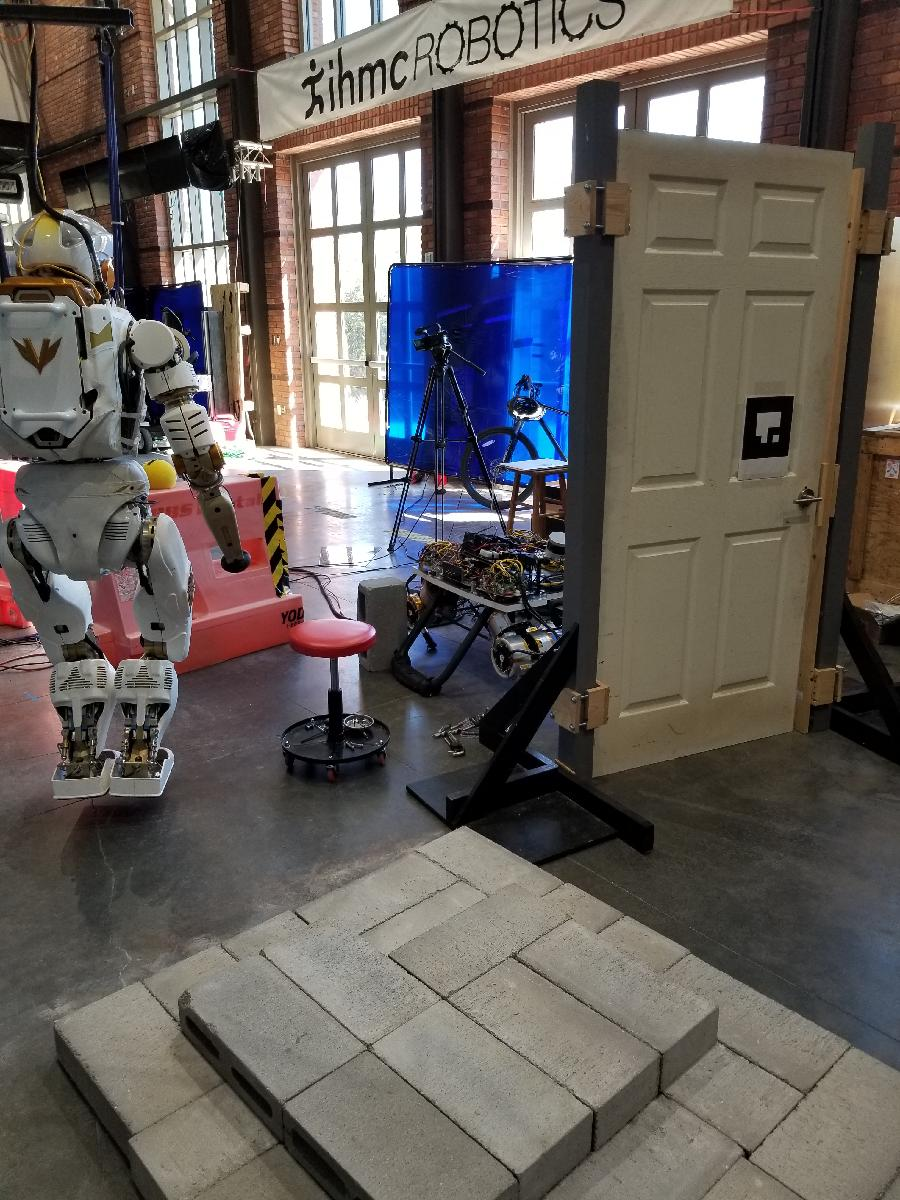door: (588, 123, 857, 783)
doorHandle: (793, 485, 826, 514)
